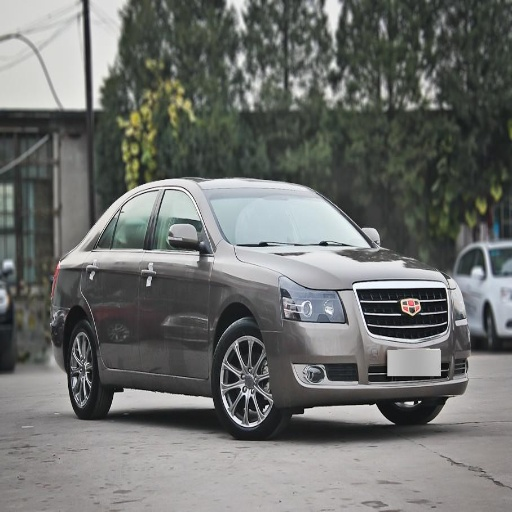front_bumper: (264, 282, 469, 404)
front_right_door: (140, 185, 211, 378)
front_right_light: (282, 280, 347, 321)
